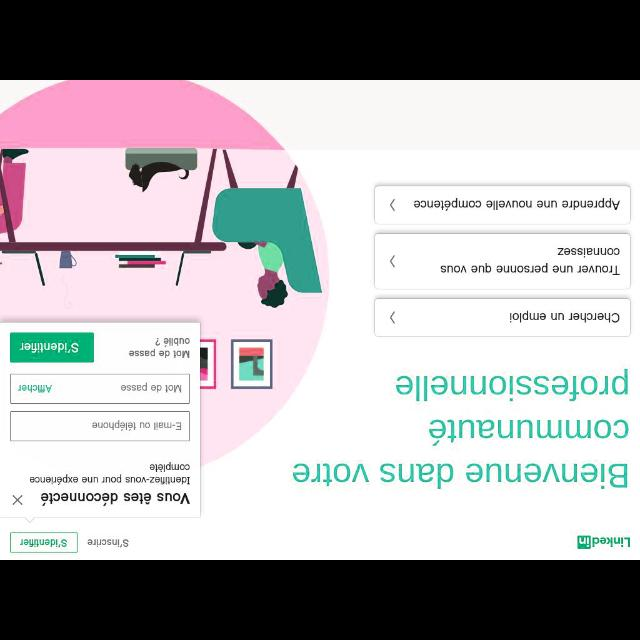backgroundimage: (1, 81, 326, 469)
icon: (384, 197, 400, 215), (386, 254, 398, 270), (10, 494, 22, 506), (388, 310, 397, 326)
image: (572, 534, 634, 550)
input: (8, 374, 190, 404), (9, 412, 191, 441)
link: (18, 382, 52, 394)
text: (290, 368, 634, 494), (438, 245, 620, 279), (27, 462, 192, 486), (413, 196, 621, 212), (37, 491, 191, 507), (508, 310, 620, 324), (130, 335, 190, 361), (91, 421, 182, 431), (20, 342, 80, 356), (118, 384, 182, 394), (18, 536, 68, 548), (86, 538, 130, 548)
textbutton: (374, 235, 632, 289), (374, 298, 630, 336), (375, 187, 631, 225), (11, 333, 93, 362), (8, 532, 78, 554)
